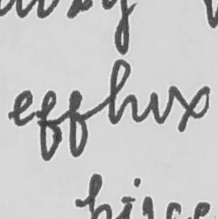e: (11, 87, 35, 128)
f: (36, 89, 63, 163), (66, 87, 89, 159)
l: (105, 56, 131, 125)
u: (128, 87, 161, 126)
x: (165, 83, 212, 132)
